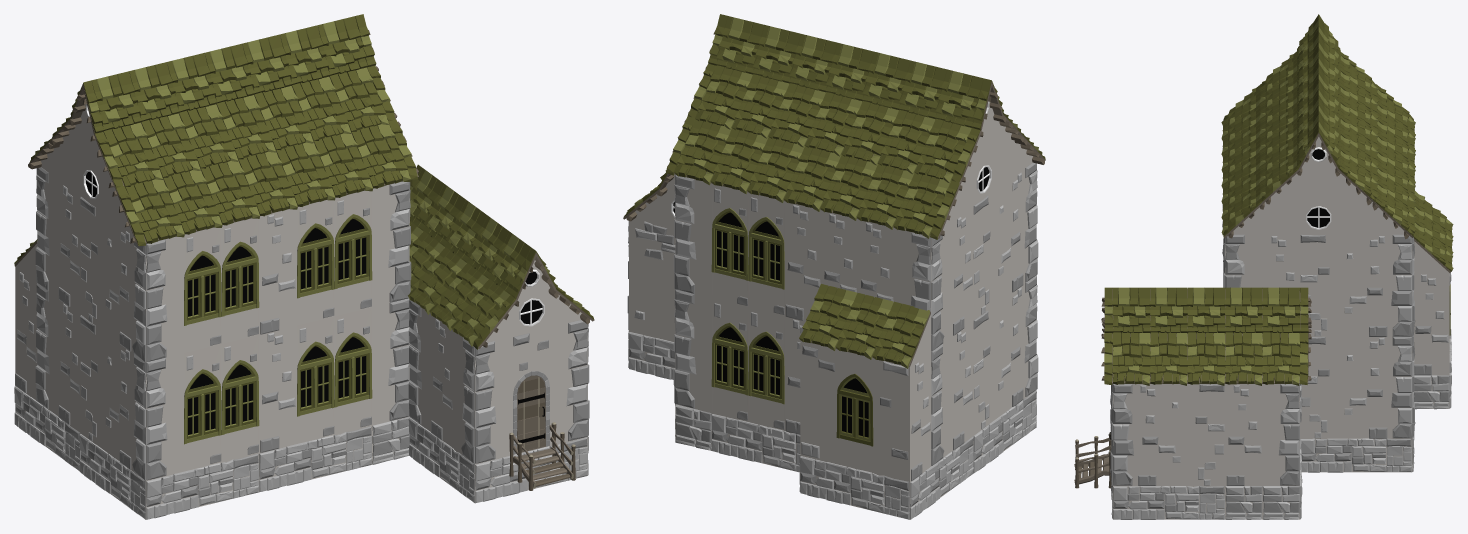
File: House_01.glb
3 renders of one model, left to right at view 1: azimuth 30°, elevation 25°; view 2: azimuth 150°, elevation 25°; view 3: azimuth 270°, elevation 25°, orthographic. The views are drawn at different scales.
Visible parts, largest first — view 1: WALL_08_2, WALL_08_3, WINDOW_01_03, WINDOW_01_05, WINDOW_01_06, WINDOW_01_08, FOUNDATION_03_4, WALL_07_5, FOUNDATION_03_5, WINDOW_01_02, WINDOW_01_04, WALL_06_4 (+61 smaller); view 2: WINDOW_02_2, WALL_08_3, WALL_08_2, WALL_01_3, FOUNDATION_03_8, WALL_05_8, WINDOW_01_11, WINDOW_01_10, WALL_05_9, WINDOW_01_12, WINDOW_01_13, WALL_06_11 (+48 smaller); view 3: WALL_04_2, WALL_08_5, WALL_08_4, FOUNDATION_03_12, FOUNDATION_03_10, WALL_07_7, WALL_06_2, WALL_06_9, WALL_06_12, WALL_05_10, ROOF_BASE_32, ROOF_BASE_30 (+60 smaller).
Part boxes in pixels (bbox=[...]): WALL_08_2: bbox=[80, 315, 146, 480]; WALL_08_3: bbox=[80, 196, 147, 361]; WINDOW_01_03: bbox=[296, 316, 334, 443]; WINDOW_01_05: bbox=[183, 344, 221, 471]; WINDOW_01_06: bbox=[183, 227, 221, 352]; WINDOW_01_08: bbox=[296, 200, 334, 325]; FOUNDATION_03_4: bbox=[146, 453, 258, 519]; WALL_07_5: bbox=[372, 181, 410, 306]; FOUNDATION_03_5: bbox=[259, 425, 371, 492]; WINDOW_01_02: bbox=[334, 307, 372, 434]; WINDOW_01_04: bbox=[221, 335, 259, 461]; WALL_06_4: bbox=[259, 325, 296, 452]; WINDOW_02_2: bbox=[800, 340, 908, 481]; WALL_08_3: bbox=[973, 162, 1038, 320]; WALL_08_2: bbox=[973, 275, 1038, 434]; WALL_01_3: bbox=[629, 218, 675, 341]; FOUNDATION_03_8: bbox=[800, 455, 909, 519]; WALL_05_8: bbox=[674, 289, 711, 412]; WINDOW_01_11: bbox=[711, 298, 748, 421]; WINDOW_01_10: bbox=[748, 307, 784, 430]; WALL_05_9: bbox=[674, 174, 711, 297]; WINDOW_01_12: bbox=[711, 183, 748, 306]; WINDOW_01_13: bbox=[748, 192, 784, 315]; WALL_06_11: bbox=[785, 201, 821, 320]; WALL_04_2: bbox=[1113, 384, 1225, 485]; WALL_08_5: bbox=[1300, 234, 1412, 336]; WALL_08_4: bbox=[1300, 336, 1412, 438]; FOUNDATION_03_12: bbox=[1113, 485, 1225, 519]; FOUNDATION_03_10: bbox=[1300, 438, 1412, 472]; WALL_07_7: bbox=[1262, 384, 1299, 485]; WALL_06_2: bbox=[1225, 384, 1262, 485]; WALL_06_9: bbox=[1414, 273, 1449, 375]; WALL_06_12: bbox=[1262, 234, 1299, 287]; WALL_05_10: bbox=[1225, 234, 1262, 287]; ROOF_BASE_32: bbox=[1187, 332, 1225, 385]; ROOF_BASE_30: bbox=[1262, 332, 1300, 385].
Bounding box in the file's own units: 10.41 × 10.14 × 10.13.
1 material, 1 textured.
